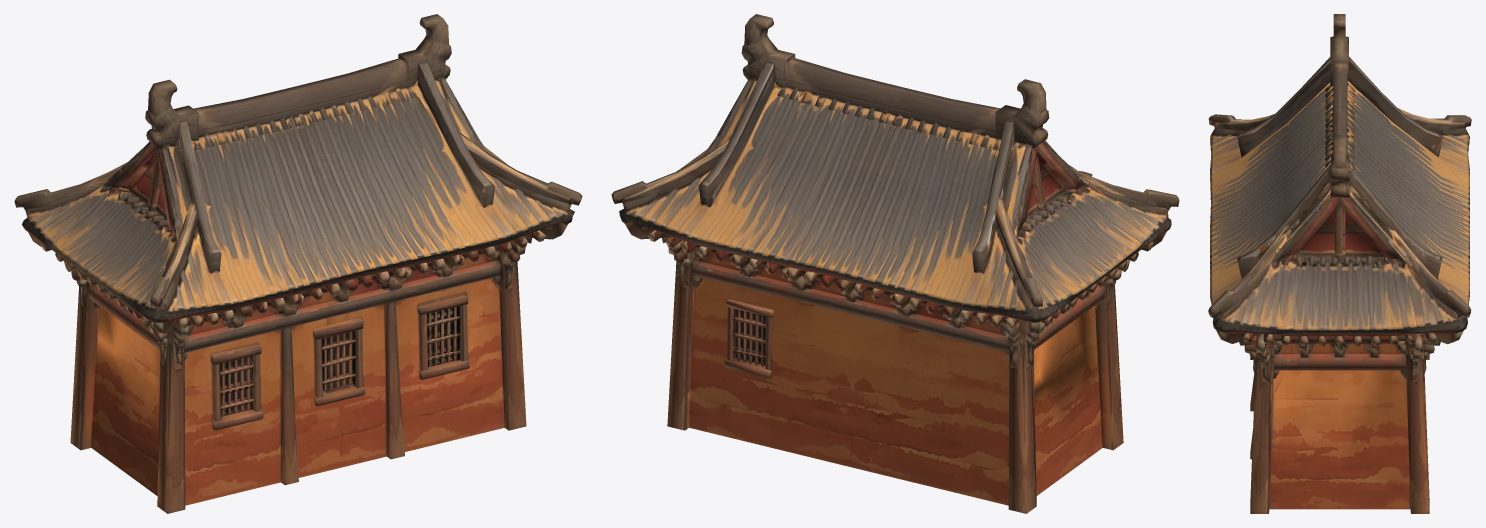
The model's file is SM_Tripo_DesertBuriedRoofHall.glb.
The picture shows the model from 3 angles, left to right: view 1: azimuth 30°, elevation 25°; view 2: azimuth 150°, elevation 25°; view 3: azimuth 270°, elevation 25°; orthographic projection. The views are drawn at different scales.
Parts seen in each view (by area): view 1: SM_Tripo_DesertBuriedRoofHall_LOD0; view 2: SM_Tripo_DesertBuriedRoofHall_LOD0; view 3: SM_Tripo_DesertBuriedRoofHall_LOD0.
Part boxes in pixels (x1=…): SM_Tripo_DesertBuriedRoofHall_LOD0: x1=14, y1=14, x2=582, y2=513; SM_Tripo_DesertBuriedRoofHall_LOD0: x1=611, y1=14, x2=1179, y2=513; SM_Tripo_DesertBuriedRoofHall_LOD0: x1=1208, y1=14, x2=1471, y2=513.
Size of the model in its own units: 6.48 by 5.5 by 3.7.
Materials: 1 (1 with a texture image).
